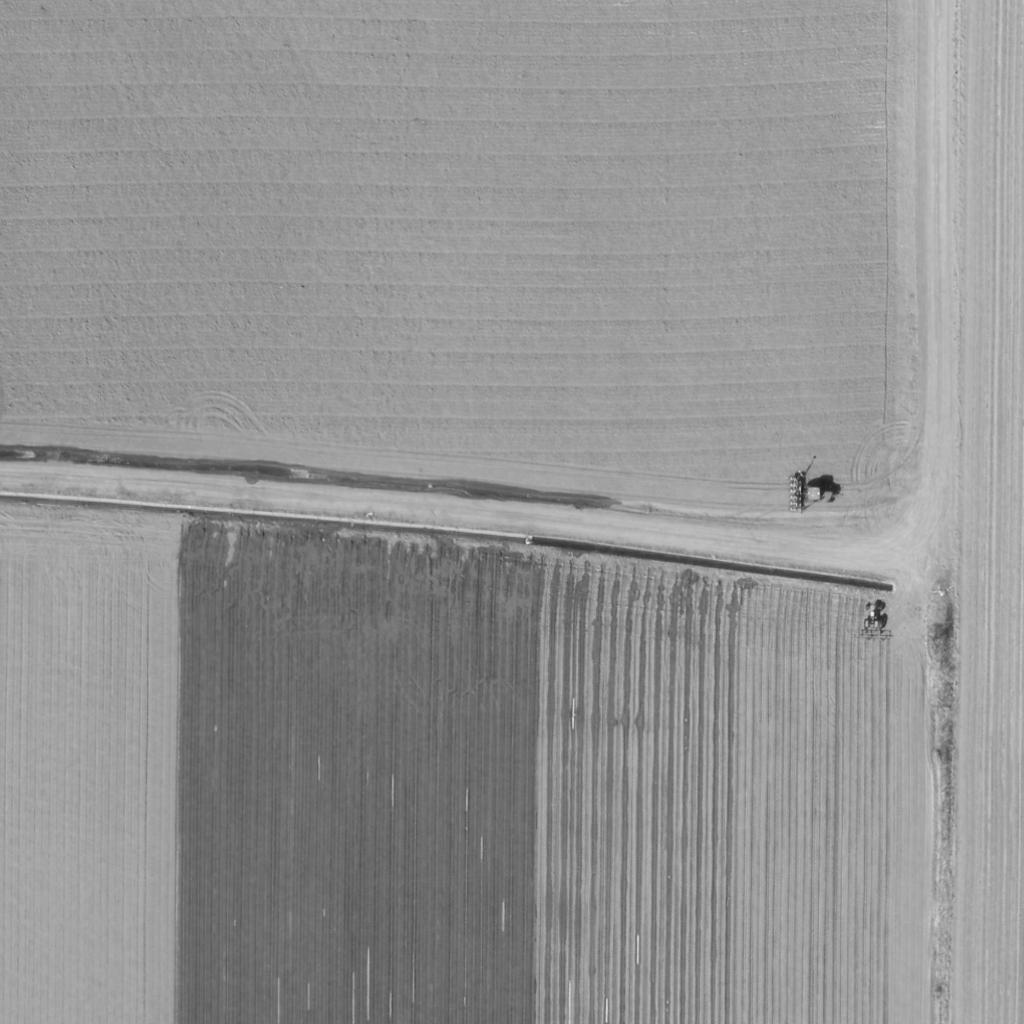vehicle: (803, 483, 839, 505), (862, 602, 886, 630)
